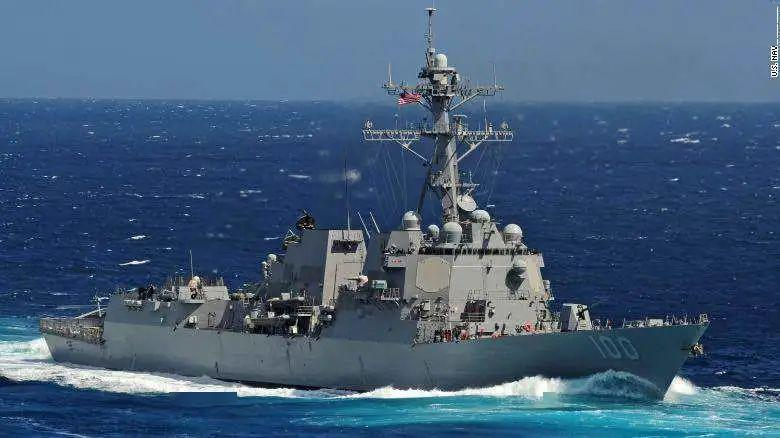warship: (24, 6, 704, 399)
